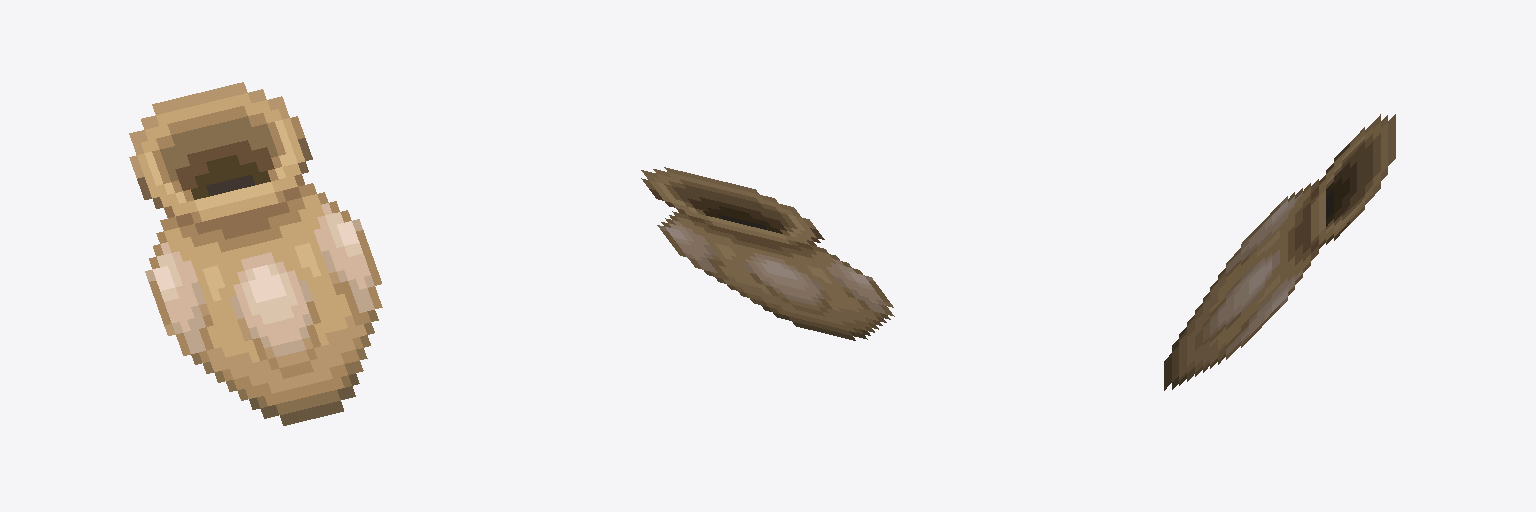
3 views of the same model, side by side, from view 1: azimuth 30°, elevation 25°; view 2: azimuth 150°, elevation 25°; view 3: azimuth 270°, elevation 25° (orthographic).
Visible parts, largest first — view 1: polygon0; view 2: polygon0; view 3: polygon0.
Boxes of the visible parts, <box> form: polygon0: <box>129,82,382,425</box>; polygon0: <box>641,167,894,340</box>; polygon0: <box>1164,114,1395,390</box>.
Bounding box in the file's own units: 8 × 8 × 7.
Materials: 1 (1 with a texture image).